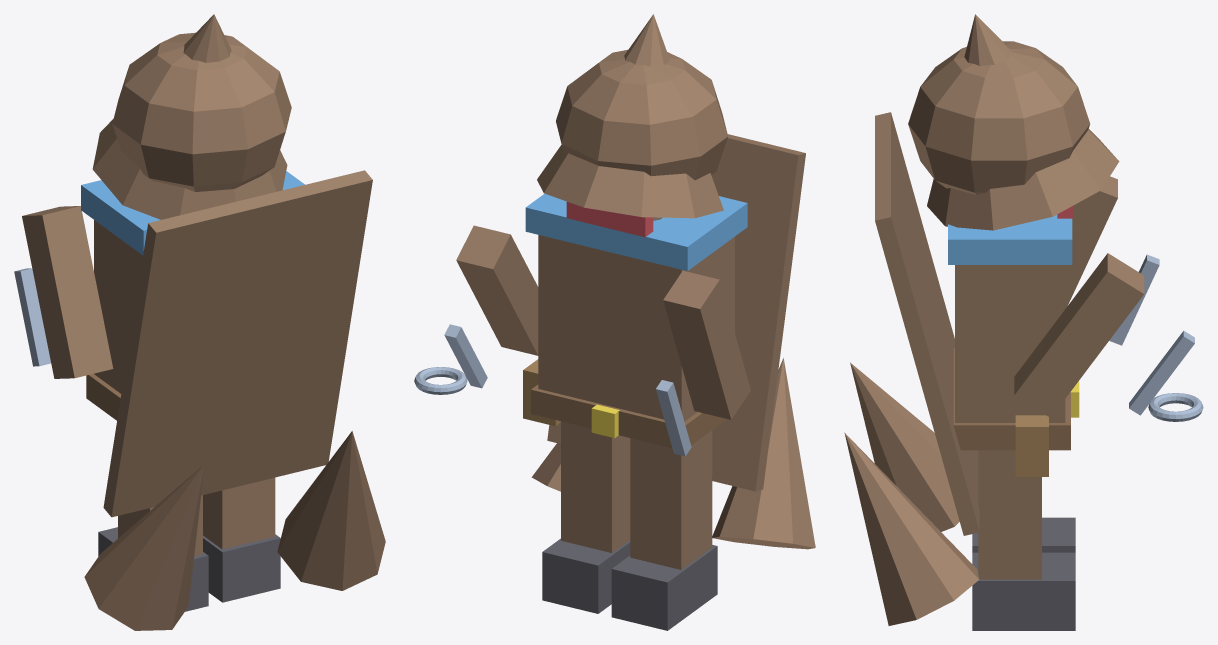
File: bandit.glb
3 renders of one model, left to right at view 1: azimuth 30°, elevation 25°; view 2: azimuth 150°, elevation 25°; view 3: azimuth 270°, elevation 25°, orthographic. The views are drawn at different scales.
Parts seen in each view (by area): view 1: bandit; view 2: bandit; view 3: bandit.
Part boxes in pixels (<box>): bandit: <box>14,14,385,630</box>; bandit: <box>414,14,815,630</box>; bandit: <box>844,14,1203,630</box>.
Size of the model in its own units: 1.19 by 2.34 by 1.3.
